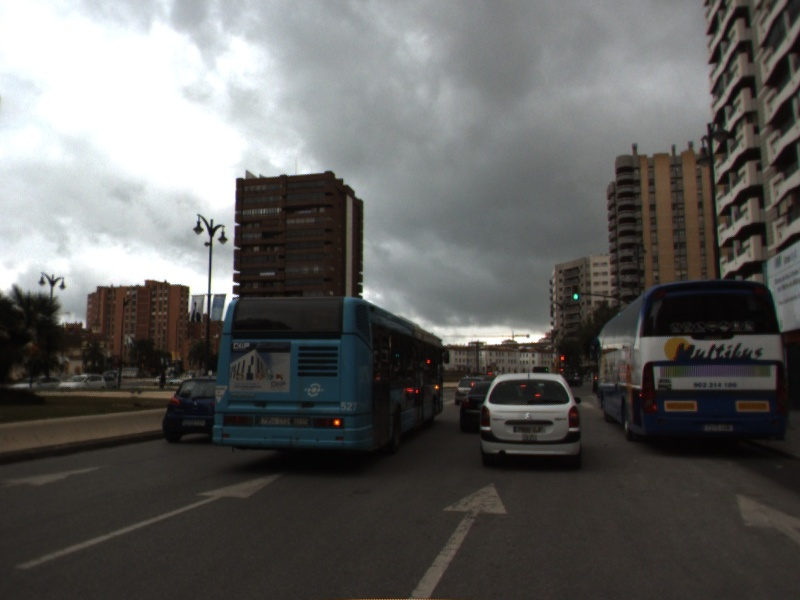STRAIGHT: (15, 469, 290, 575), (403, 478, 513, 600), (728, 485, 800, 548)
